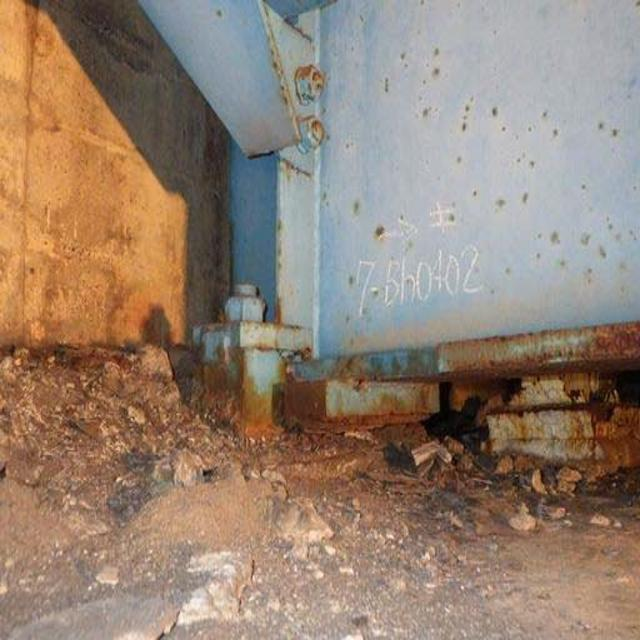corrosion: (191, 293, 640, 504)
